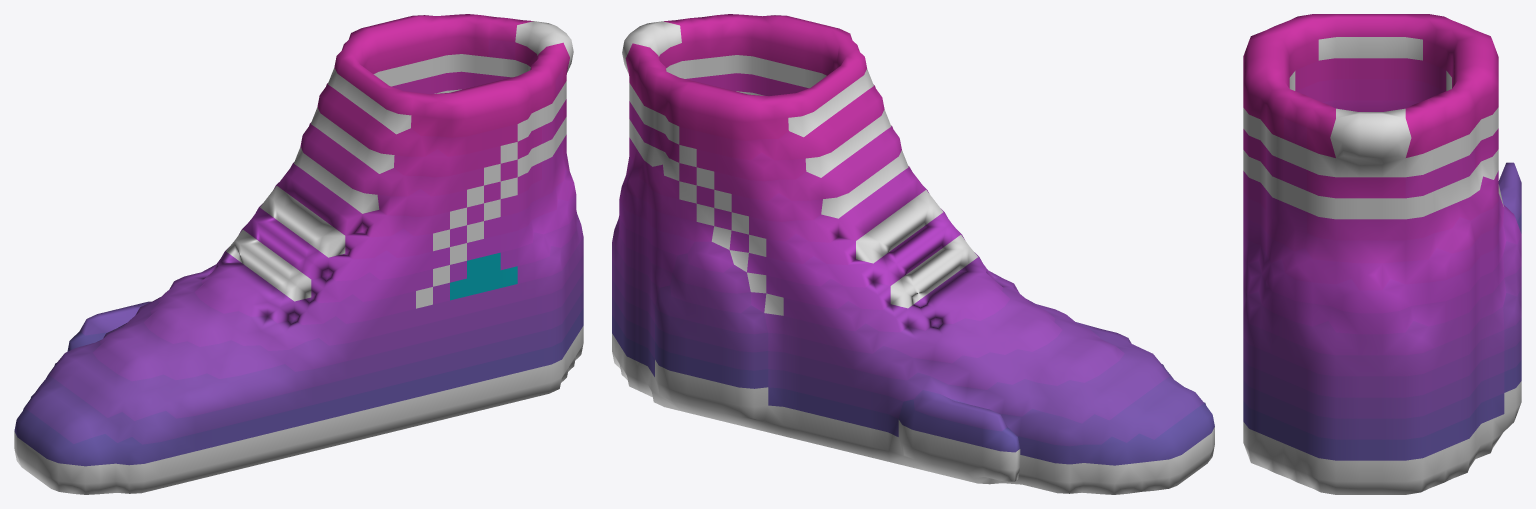
The picture shows the model from 3 angles, left to right: view 1: azimuth 30°, elevation 25°; view 2: azimuth 150°, elevation 25°; view 3: azimuth 270°, elevation 25°; orthographic projection. The views are drawn at different scales.
Bounding box in the file's own units: 1.6 × 0.9 × 0.6.
